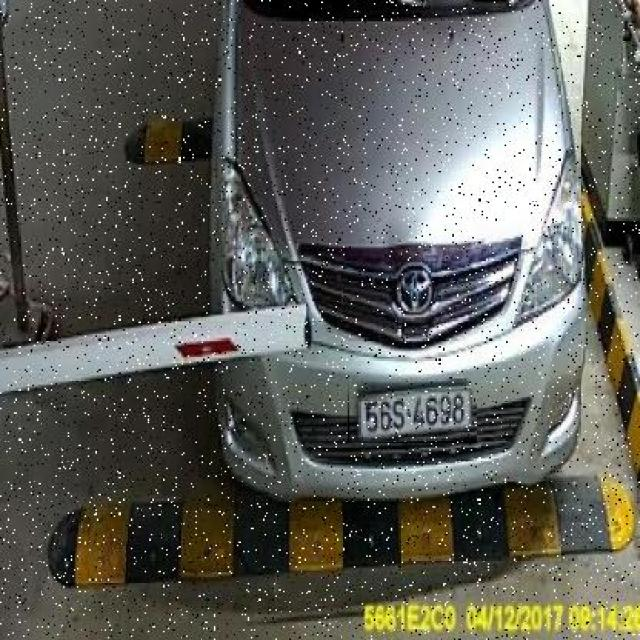number_plate: (348, 379, 477, 443)
